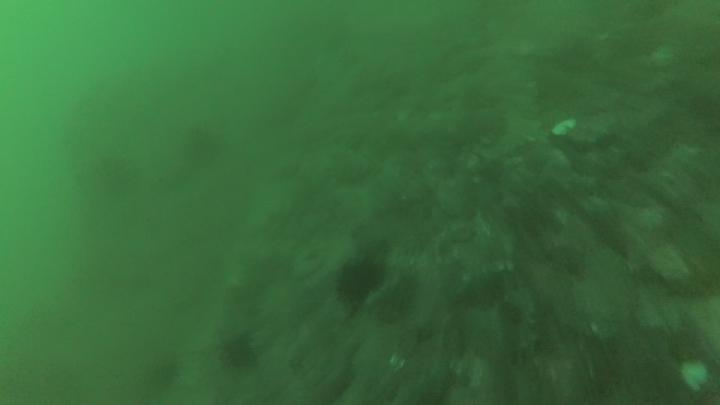echinus: (328, 256, 394, 312)
holothurian: (502, 281, 547, 361)
starfish: (215, 328, 270, 374)
